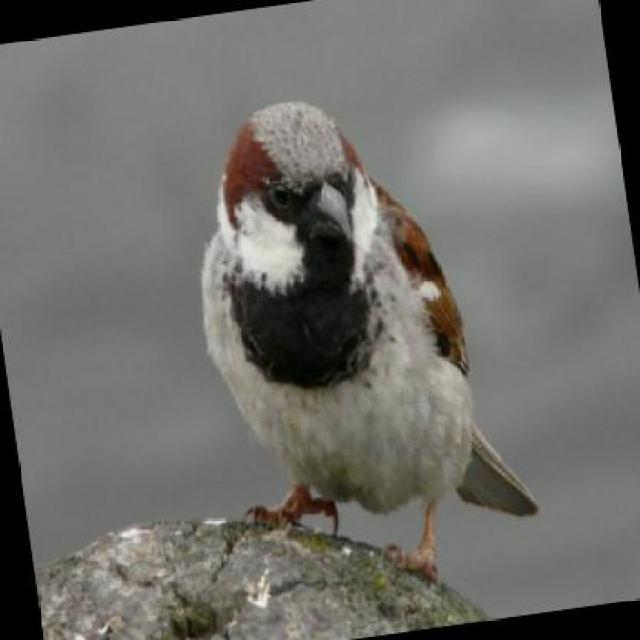Bird: (141, 94, 560, 588)
